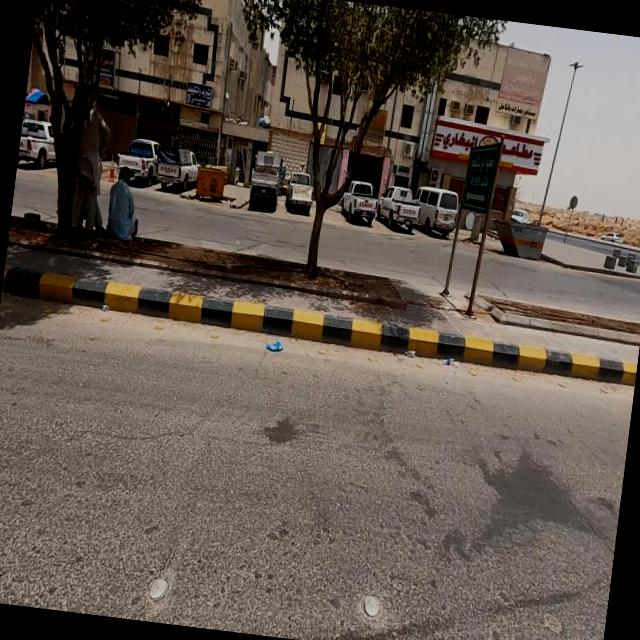debris: (333, 76, 418, 164), (236, 311, 308, 382)
